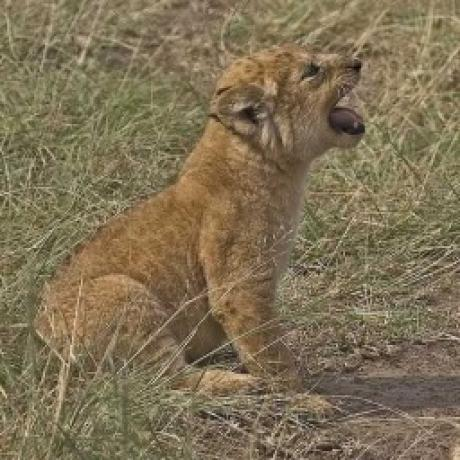Lion: (37, 45, 365, 397)
